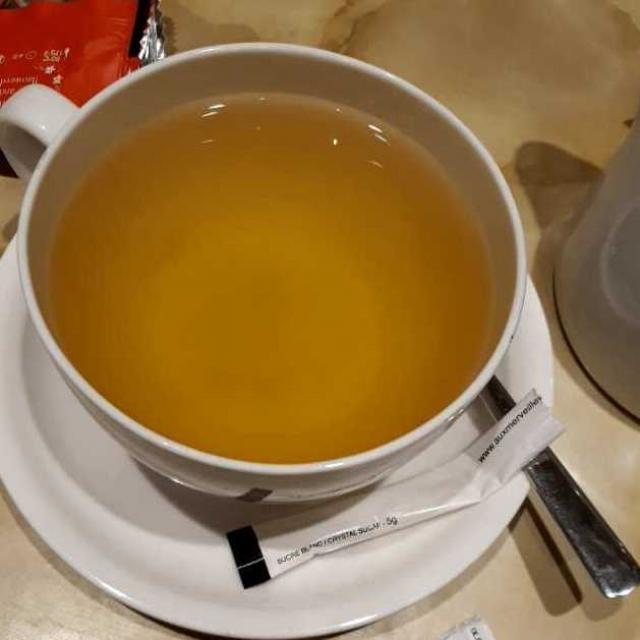drink: (53, 101, 485, 457)
